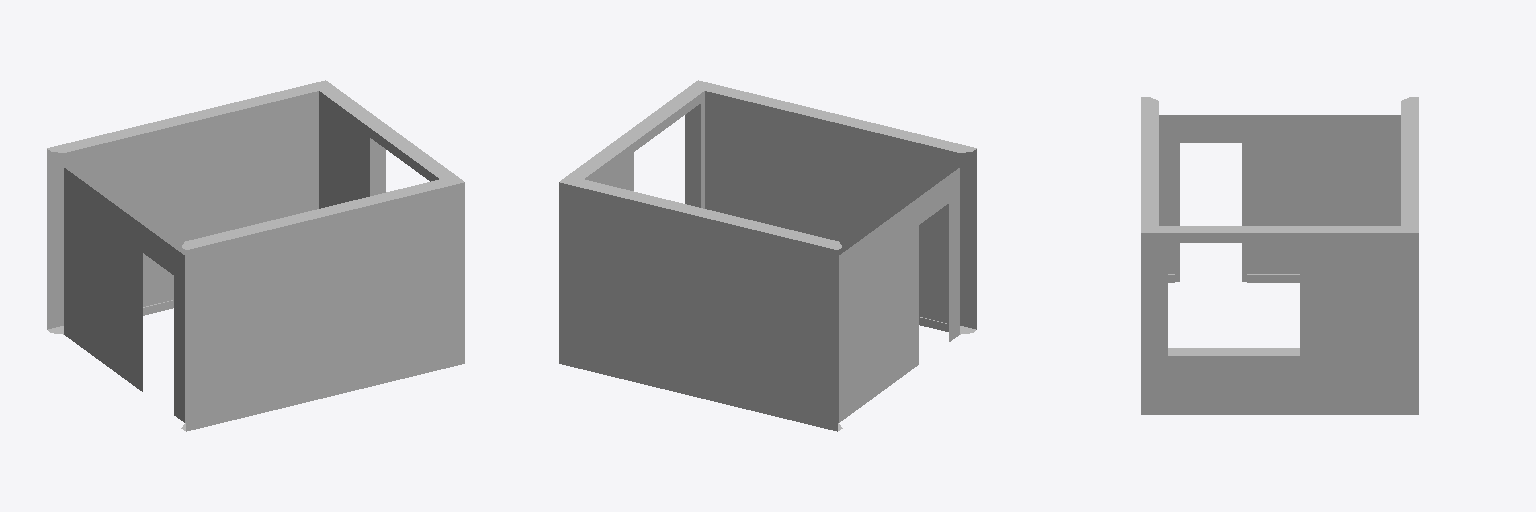
File: Bedroom-14447w.obj
The picture shows the model from 3 angles: view 1: azimuth 30°, elevation 25°; view 2: azimuth 150°, elevation 25°; view 3: azimuth 270°, elevation 25°; orthographic projection.
Bounding box in the file's own units: 4.19 × 2.6 × 3.62.